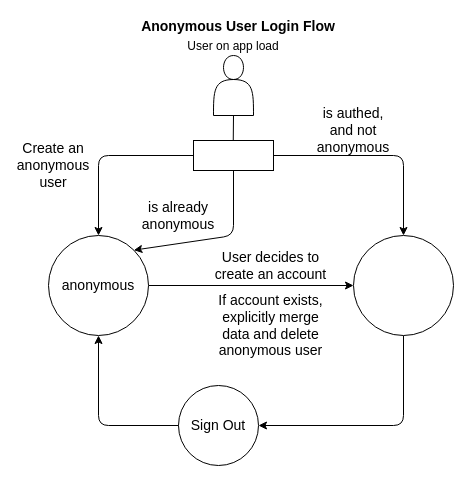
Some shapes in this 471 by 483 pixel diagram are drawn without their labels. Here are the shapes that lost their labels. From the top down, the centre of each, then its label:
At point 233,155: "Check user".
At point 403,285: "authed".
